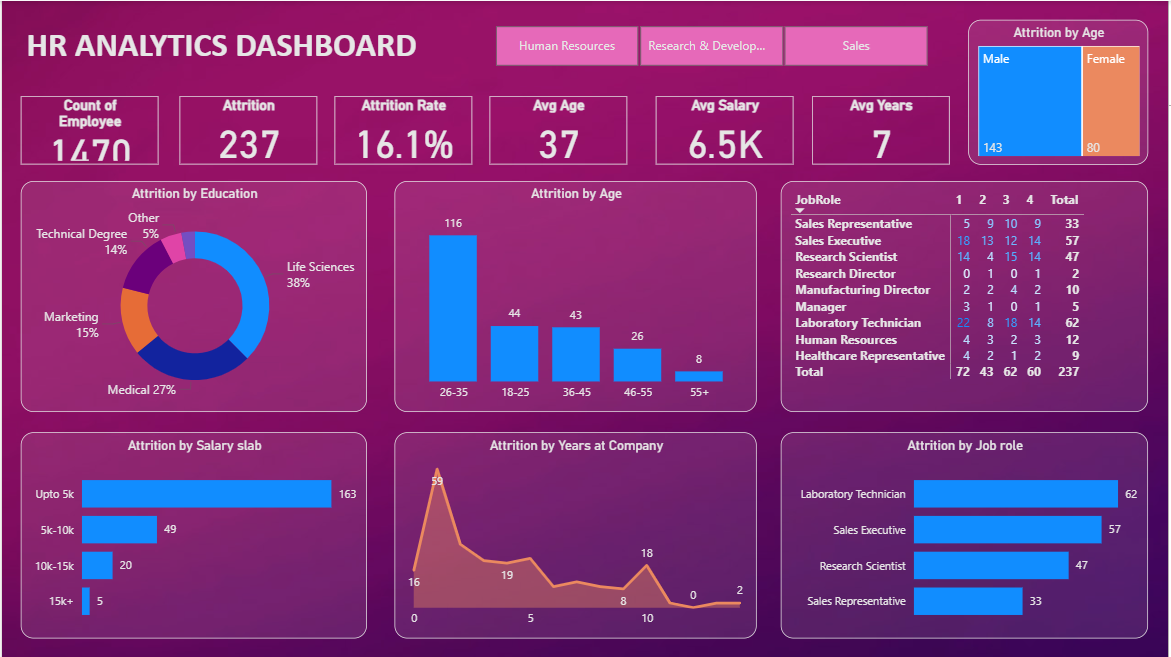

The page's visual inventory and layout, read from the dashboard file:
{"tool":"powerbi","page":{"name":"Page 1","canvas":[1280,720],"ordinal":0},"visuals":[{"type":"card","title":"Count of Employee","fields":{"Values":["CountNonNull(HR_Analytics (1).EmpID)"]},"box":[20.6,104.3,150.9,75.5],"z":0},{"type":"card","title":"Attrition Rate","fields":{"Values":["HR_Analytics (1).AttritionRate"]},"box":[365,104.3,150.9,75.5],"z":1000},{"type":"card","title":"Attrition","fields":{"Values":["Sum(HR_Analytics (1).AttritionCount)"]},"box":[194.9,104.3,150.9,75.5],"z":2000},{"type":"card","title":"Avg Age","fields":{"Values":["Avg(HR_Analytics (1).Age)"]},"box":[535.2,104.3,150.9,75.5],"z":3000},{"type":"card","title":"Avg Years","fields":{"Values":["Avg(HR_Analytics (1).YearsAtCompany)"]},"box":[889.2,104.3,150.9,75.5],"z":4000},{"type":"card","title":"Avg Salary","fields":{"Values":["Avg(HR_Analytics (1).MonthlyIncome)"]},"box":[717.7,104.3,150.9,75.5],"z":5000},{"type":"donutChart","title":"Attrition by Education","fields":{"Category":["HR_Analytics (1).EducationField"],"Y":["Sum(HR_Analytics (1).AttritionCount)"]},"box":[20.6,197.6,380.1,253.9],"z":6000},{"type":"columnChart","title":"Attrition by Age","fields":{"Category":["HR_Analytics (1).AgeGroup"],"Y":["Sum(HR_Analytics (1).AttritionCount)"]},"box":[430.9,197.6,397.9,253.9],"z":7000},{"type":"pivotTable","fields":{"Rows":["HR_Analytics (1).JobRole"],"Columns":["HR_Analytics (1).EnvironmentSatisfaction"],"Values":["Sum(HR_Analytics (1).AttritionCount)"]},"box":[854.9,197.6,403.4,253.9],"z":8000},{"type":"clusteredBarChart","title":"Attrition by Salary slab","fields":{"Category":["HR_Analytics (1).SalarySlab"],"Y":["Sum(HR_Analytics (1).AttritionCount)"]},"box":[20.6,473.4,380.1,226.4],"z":9000},{"type":"clusteredBarChart","title":"Attrition by Job role","fields":{"Category":["HR_Analytics (1).JobRole"],"Y":["Sum(HR_Analytics (1).AttritionCount)"]},"box":[854.9,473.4,403.4,226.4],"z":10000},{"type":"areaChart","title":"Attrition by Years at Company","fields":{"Category":["HR_Analytics (1).YearsAtCompany"],"Y":["Sum(HR_Analytics (1).AttritionCount)"]},"box":[430.9,473.4,397.9,226.4],"z":11000},{"type":"treemap","title":"Attrition by Age","fields":{"Group":["HR_Analytics (1).Gender"],"Values":["Sum(HR_Analytics (1).AttritionCount)"]},"box":[1060.7,20.6,197.6,159.2],"z":12000},{"type":"slicer","fields":{"Values":["HR_Analytics (1).Department"]},"box":[516,20.6,524.2,57.6],"z":13000},{"type":"textbox","box":[22,20.6,513.2,57.6],"z":14000}]}

Visuals, with their boxes in screenshot pixels (x1, y1, x2, y2), scaled from the page's 1280x720 canvas onto the 1171x657 screenshot:
"Count of Employee" card: [19,95,157,164]
"Attrition Rate" card: [334,95,472,164]
"Attrition" card: [178,95,316,164]
"Avg Age" card: [490,95,628,164]
"Avg Years" card: [813,95,952,164]
"Avg Salary" card: [657,95,795,164]
"Attrition by Education" donutChart: [19,180,367,412]
"Attrition by Age" columnChart: [394,180,758,412]
pivotTable - HR_Analytics (1).JobRole x HR_Analytics (1).EnvironmentSatisfaction: [782,180,1151,412]
"Attrition by Salary slab" clusteredBarChart: [19,432,367,639]
"Attrition by Job role" clusteredBarChart: [782,432,1151,639]
"Attrition by Years at Company" areaChart: [394,432,758,639]
"Attrition by Age" treemap: [970,19,1151,164]
slicer - HR_Analytics (1).Department: [472,19,952,71]
textbox: [20,19,490,71]
